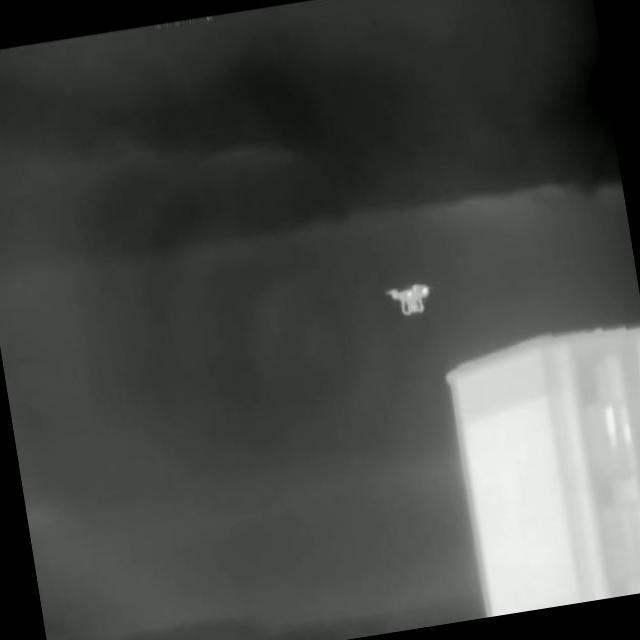DRONE: (381, 279, 434, 318)
